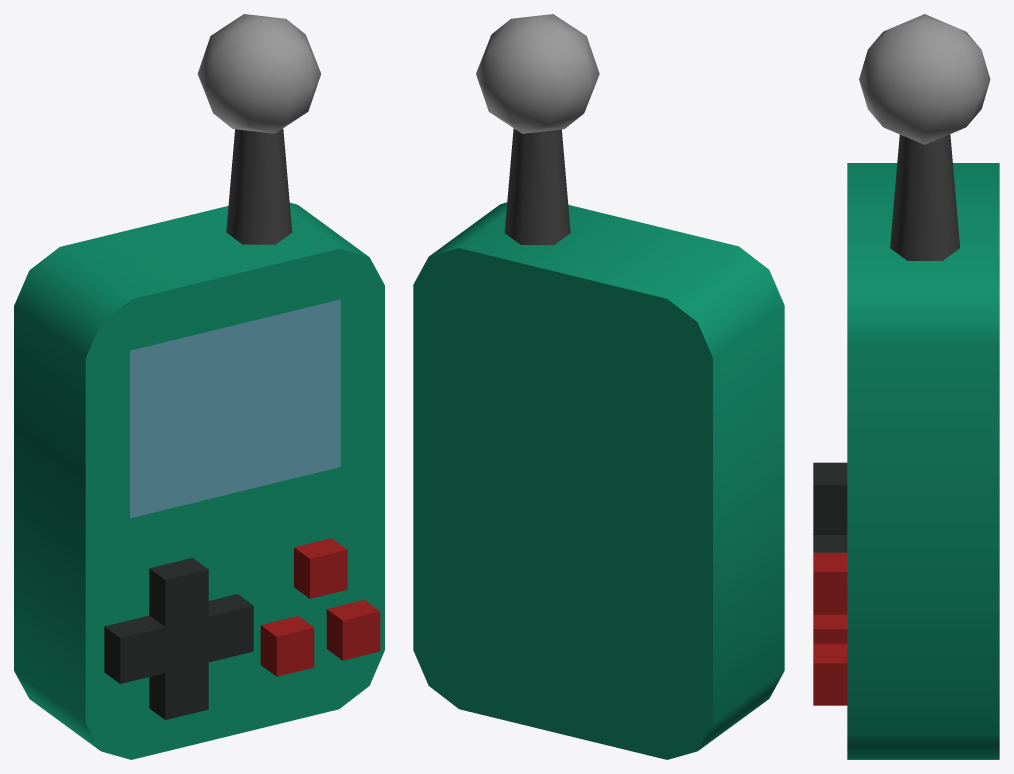
The model's file is gadget_gameboy_01.fbx.
The picture shows the model from 3 angles, left to right: view 1: azimuth 30°, elevation 25°; view 2: azimuth 150°, elevation 25°; view 3: azimuth 270°, elevation 25°; orthographic projection. The views are drawn at different scales.
Visible parts, largest first — view 1: gadget_gameboy_01; view 2: gadget_gameboy_01; view 3: gadget_gameboy_01.
Boxes of the visible parts, x1=… form: gadget_gameboy_01: x1=14, y1=14, x2=384, y2=759; gadget_gameboy_01: x1=413, y1=14, x2=784, y2=759; gadget_gameboy_01: x1=813, y1=14, x2=999, y2=759.
Size of the model in its own units: 35.68 by 76.93 by 18.09.
